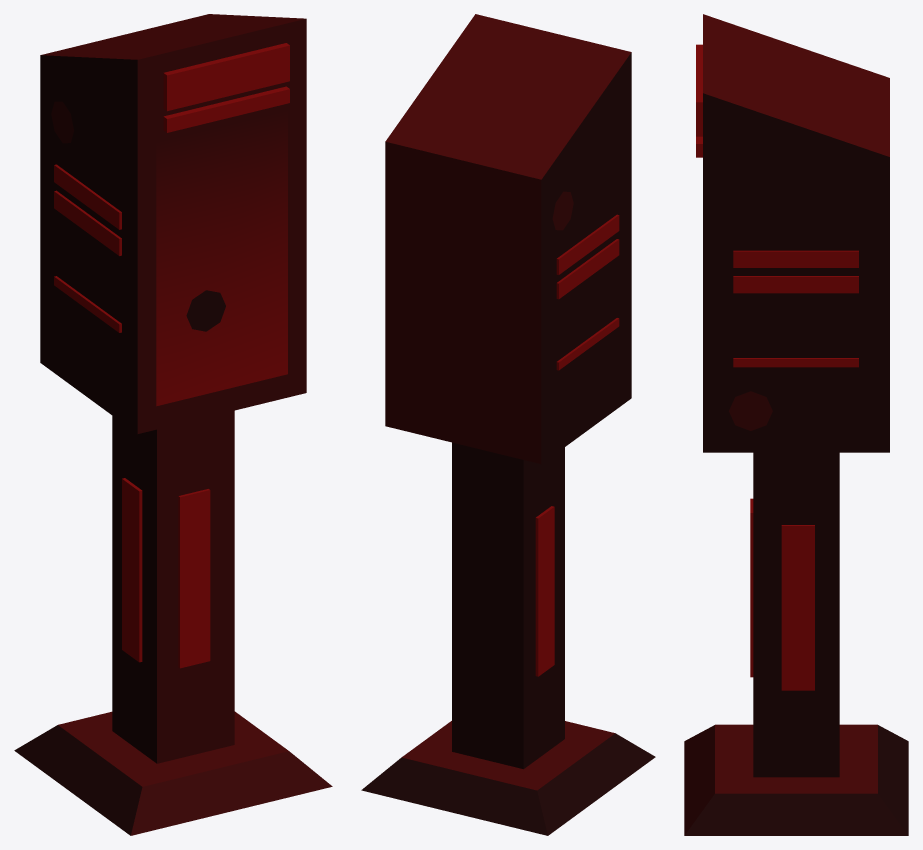
The model's file is NewspaperStand002.glb.
The picture shows the model from 3 angles, left to right: view 1: azimuth 30°, elevation 25°; view 2: azimuth 150°, elevation 25°; view 3: azimuth 270°, elevation 25°; orthographic projection. The views are drawn at different scales.
Parts seen in each view (by area): view 1: NewspaperStand002; view 2: NewspaperStand002; view 3: NewspaperStand002.
Boxes of the visible parts, bbox=[...] form: NewspaperStand002: bbox=[14, 14, 332, 835]; NewspaperStand002: bbox=[361, 14, 655, 835]; NewspaperStand002: bbox=[684, 14, 908, 835].
Size of the model in its own units: 1.53 by 5.53 by 1.53.
